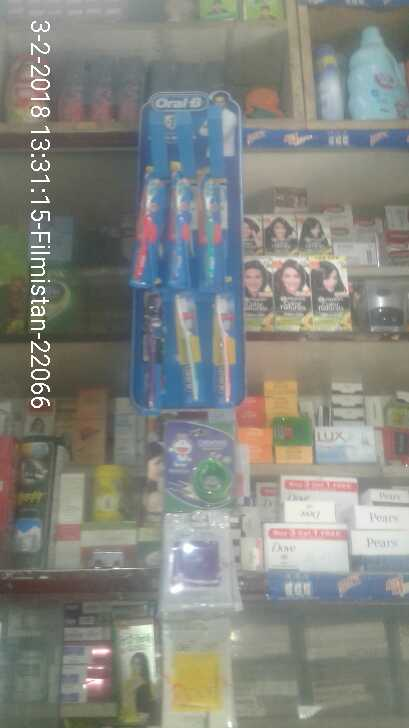oralb: (197, 152, 226, 297), (166, 304, 206, 409), (163, 170, 194, 292), (128, 173, 157, 291), (215, 299, 235, 414)
